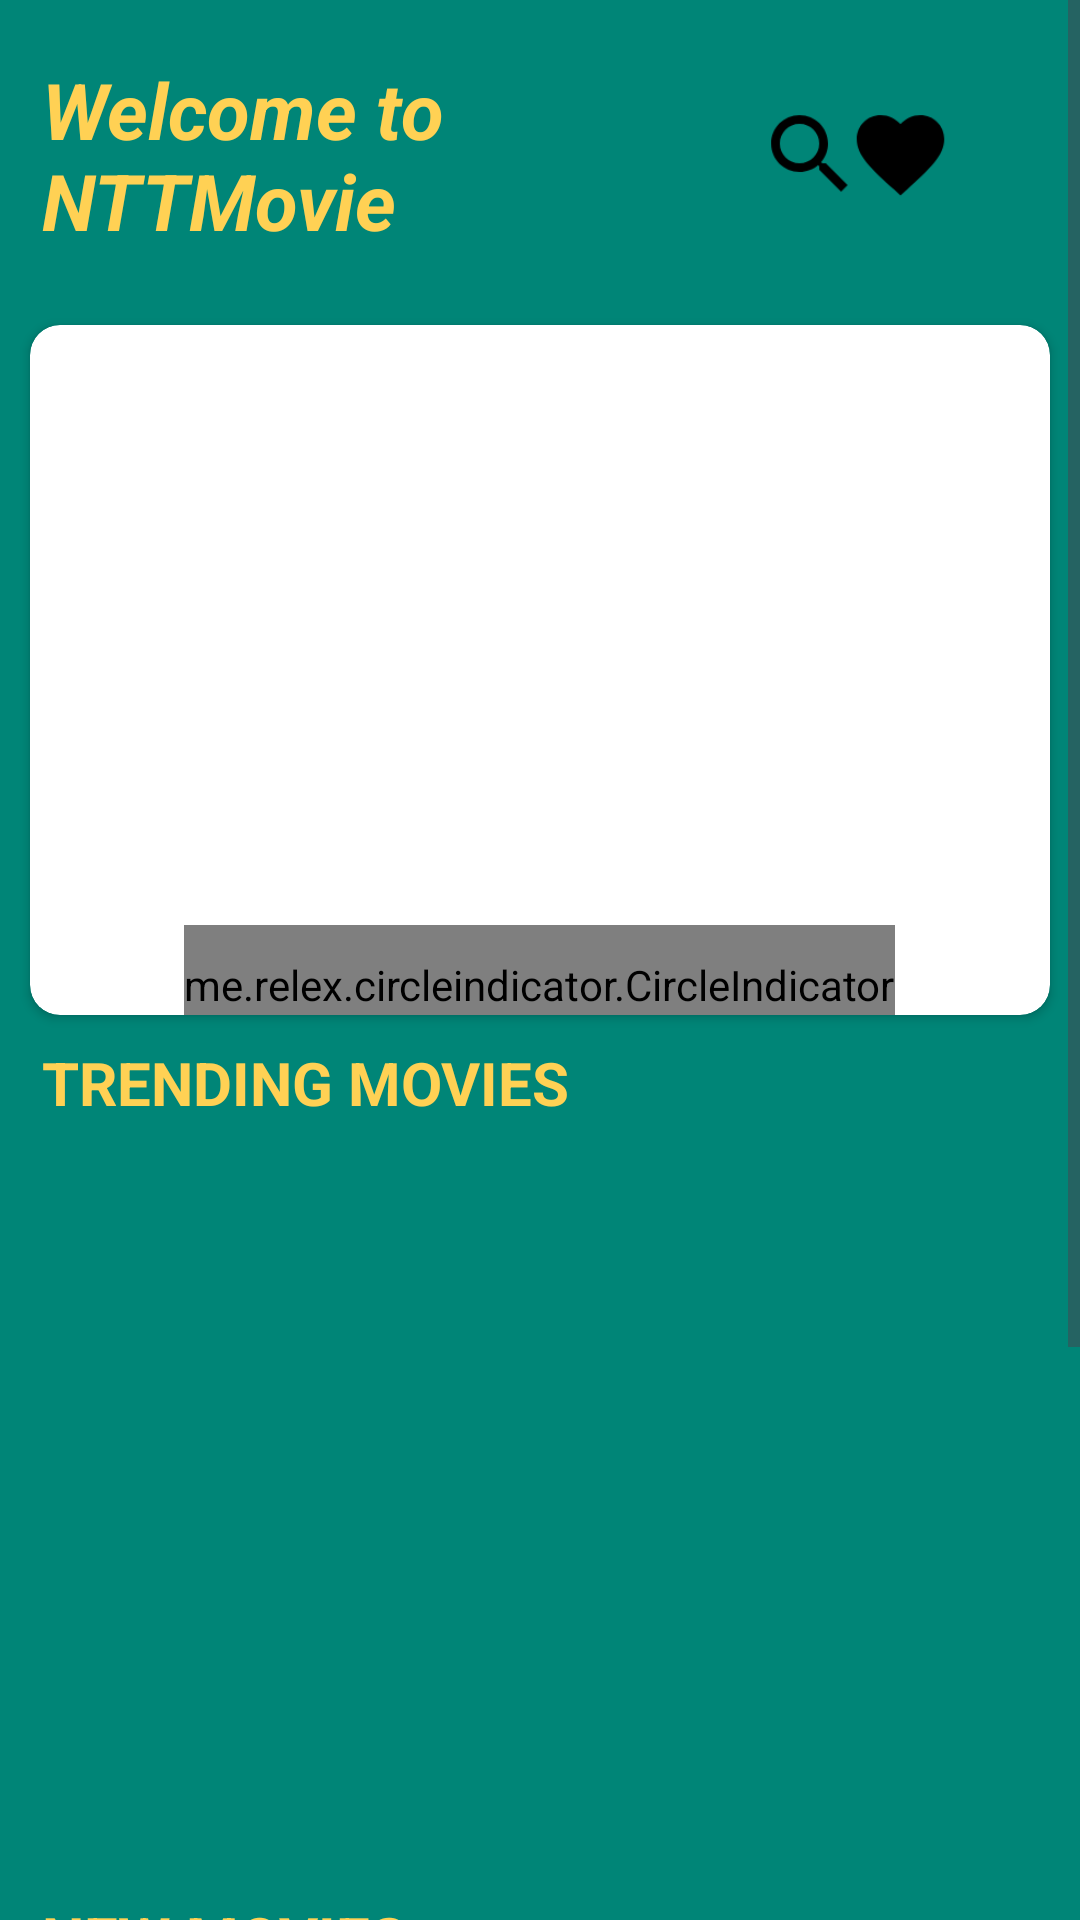

Icons on this 1080px×1920px Android screen, each with its box as box=[x1, y1, x2, y2]:
favblack: box=[856, 115, 945, 195]
find: box=[771, 115, 848, 192]
